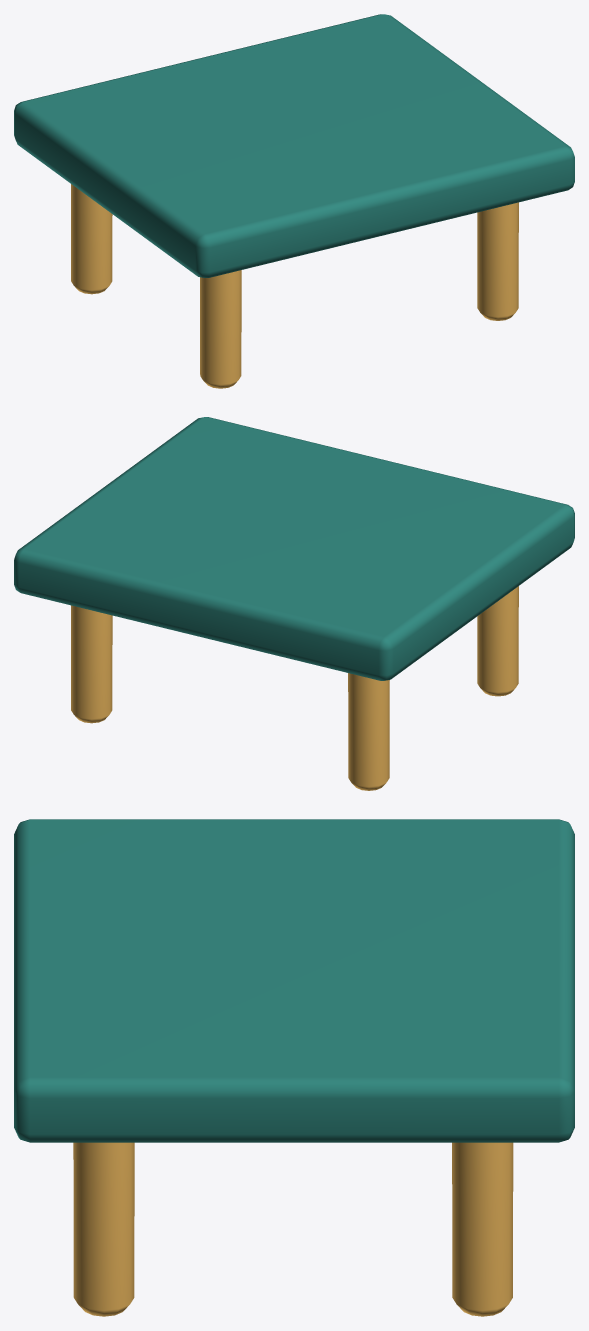
File: Coffee_Table_08.glb
3 renders of one model, top to bottom at view 1: azimuth 30°, elevation 25°; view 2: azimuth 150°, elevation 25°; view 3: azimuth 270°, elevation 25°, orthographic. The views are drawn at different scales.
Parts seen in each view (by area): view 1: Coffee_Table_08; view 2: Coffee_Table_08; view 3: Coffee_Table_08.
Part boxes in pixels (bbox=[...]): Coffee_Table_08: bbox=[14, 14, 574, 388]; Coffee_Table_08: bbox=[14, 417, 574, 790]; Coffee_Table_08: bbox=[14, 819, 574, 1316].
Size of the model in its own units: 0.8 by 0.3624 by 0.7.
Materials: 1 (1 with a texture image).
